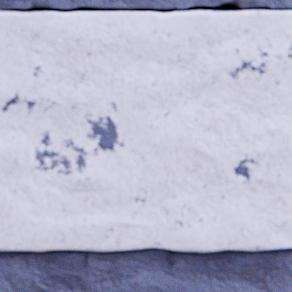brick: (0, 11, 291, 251)
crack: (1, 0, 291, 13)
